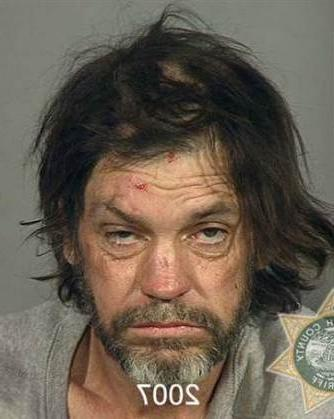Drunk: (95, 151, 237, 359)
